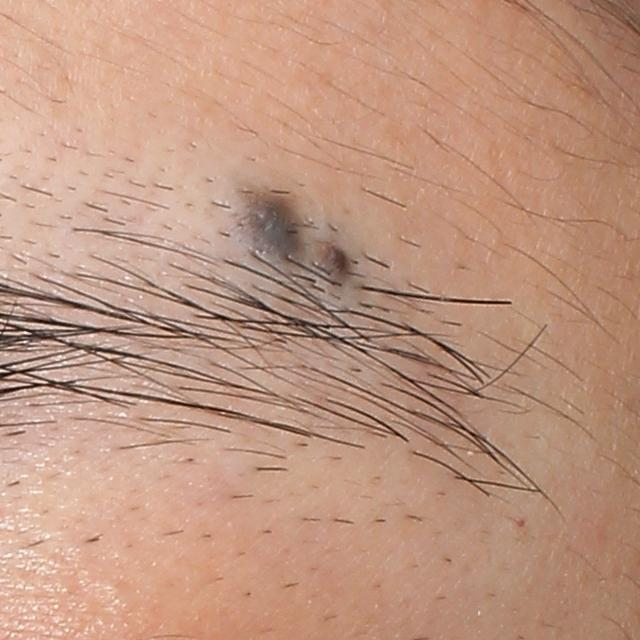nevus: (246, 184, 304, 268), (324, 246, 356, 284)
